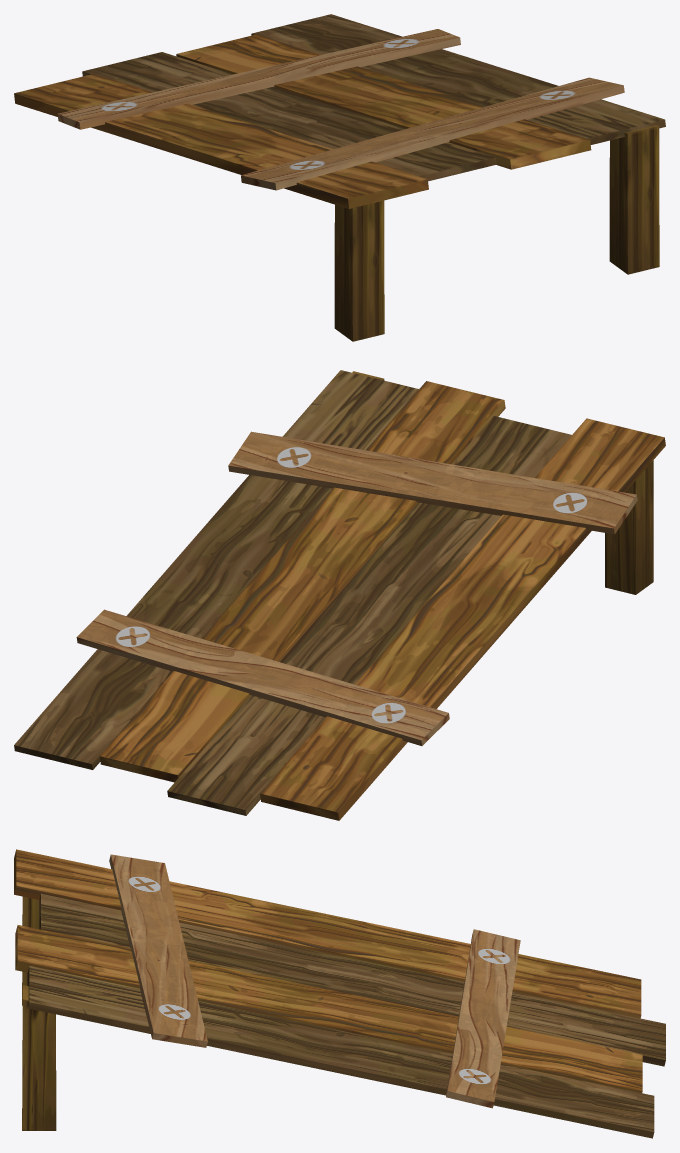
The model's file is ramp_stylized.glb.
The picture shows the model from 3 angles, top to bottom: view 1: azimuth 30°, elevation 25°; view 2: azimuth 150°, elevation 25°; view 3: azimuth 270°, elevation 25°; orthographic projection. The views are drawn at different scales.
Visible parts, largest first — view 1: Cube.006; view 2: Cube.006; view 3: Cube.006.
Part boxes in pixels (box(x1,y1,x2,y2)): Cube.006: box(14, 14, 665, 341); Cube.006: box(14, 370, 665, 820); Cube.006: box(14, 849, 665, 1138).
Bounding box in the file's own units: 1.55 × 0.6016 × 2.48.
Materials: 1 (1 with a texture image).
